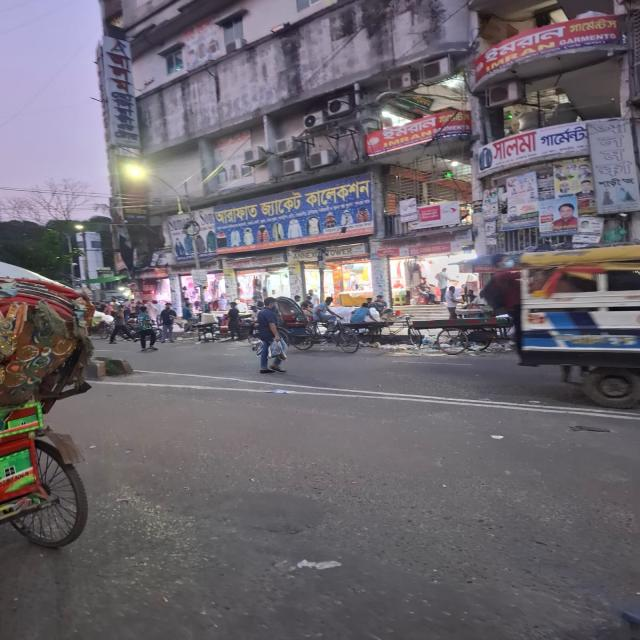person: (257, 297, 285, 374)
